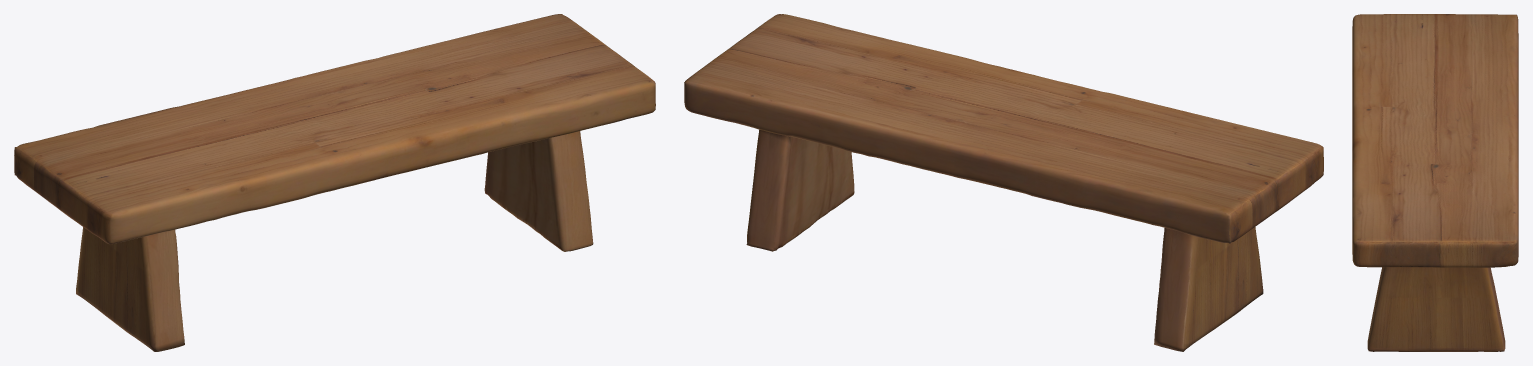
File: Banca_de_madera__0512162208_texture.glb
3 views of the same model, side by side, from view 1: azimuth 30°, elevation 25°; view 2: azimuth 150°, elevation 25°; view 3: azimuth 270°, elevation 25° (orthographic). The views are drawn at different scales.
Bounding box in the file's own units: 2 × 0.5493 × 0.6123.
Materials: 1 (1 with a texture image).
